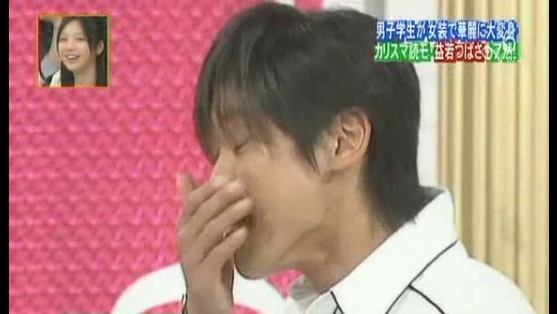face: (195, 97, 319, 280), (57, 24, 90, 69)
